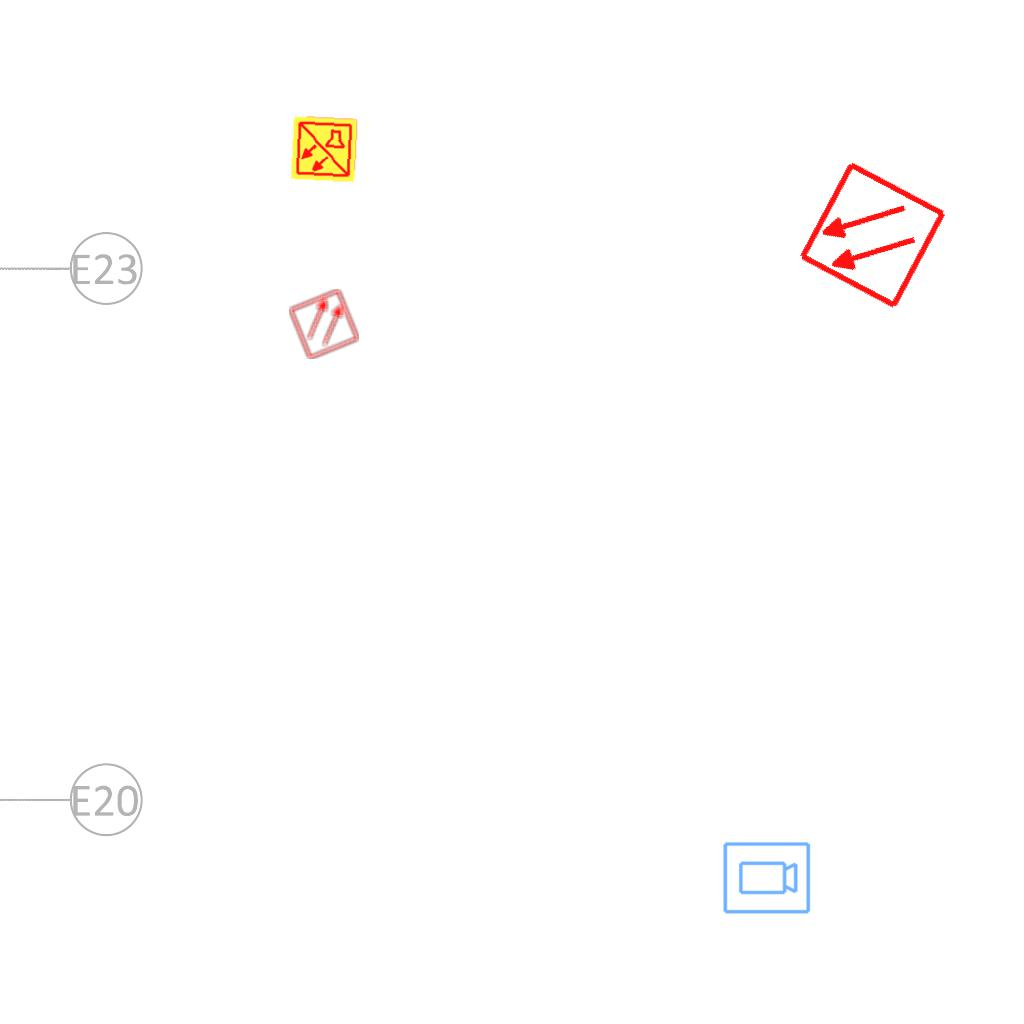KFO_Kamera_mit_Festobjektiv: (721, 840, 812, 917)
OKW_Multisensormelder_(Kombination_optischer_Rauch-Kahlenmonoxid_Waerme-Melder): (289, 114, 359, 184)
RMO_Rauchmelder_optischer: (796, 159, 949, 312), (287, 287, 361, 361)
